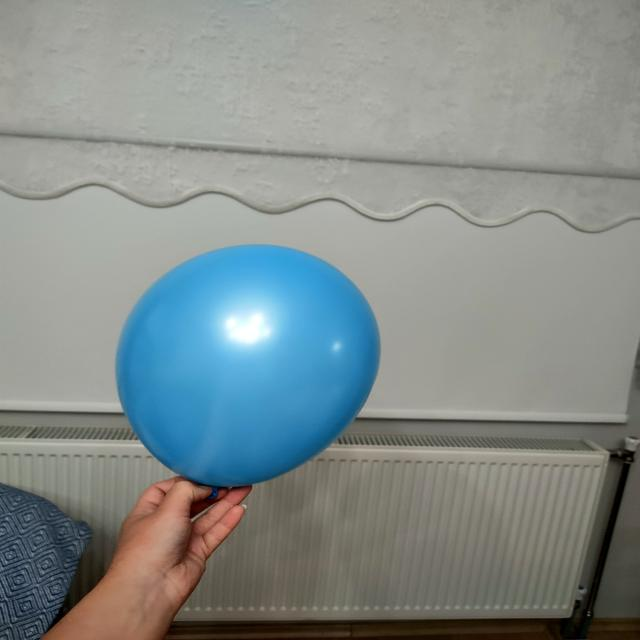blue: (118, 245, 380, 490)
